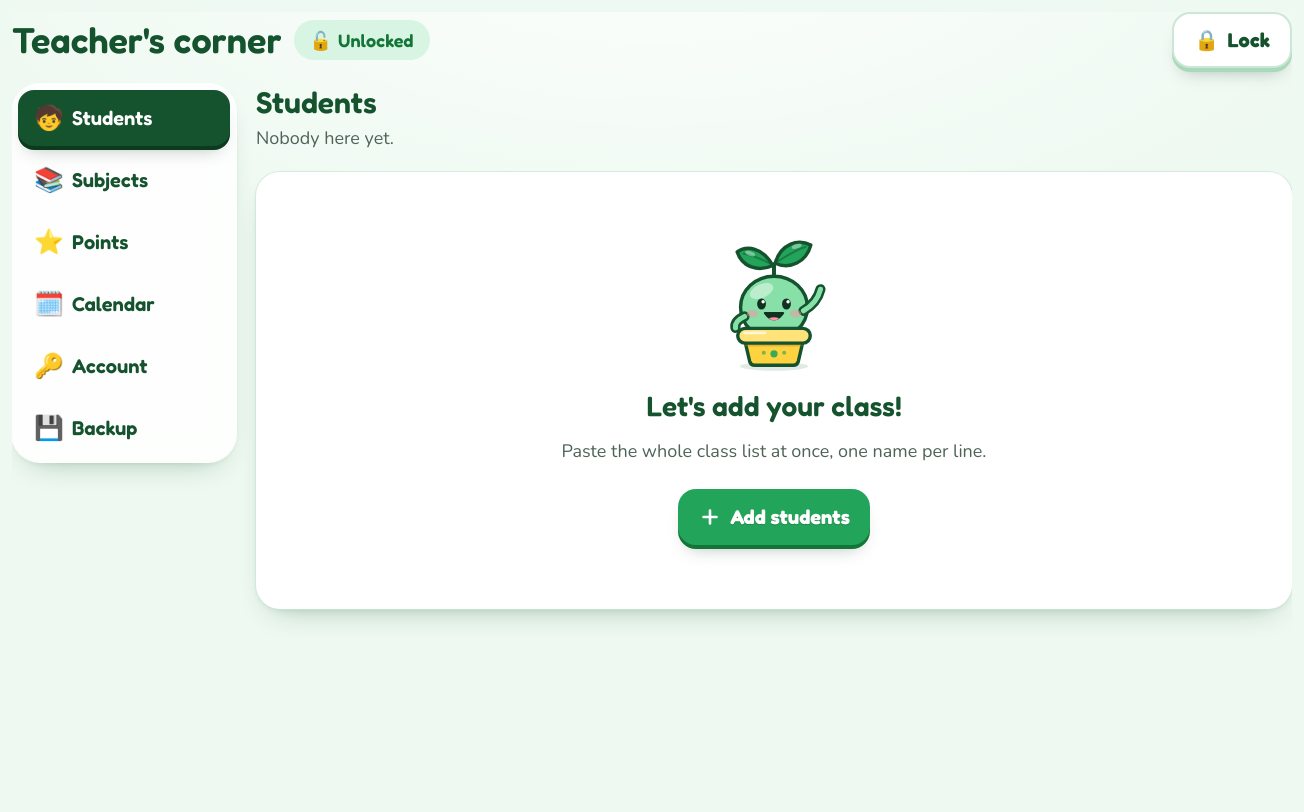
it: AdminPage › shows the tabs with a Lock button when unlocked, and locking brings the gate back
Expected: the text "🔓 Unlocked" is shown, [294, 20, 430, 60]
Expected: the heading "Students" is shown, [256, 84, 394, 120]
What coordinates should you click on to do the following:
click the button "🔒 Lock"
I would click on:
 (1232, 40)
Its box is [1172, 12, 1292, 68].
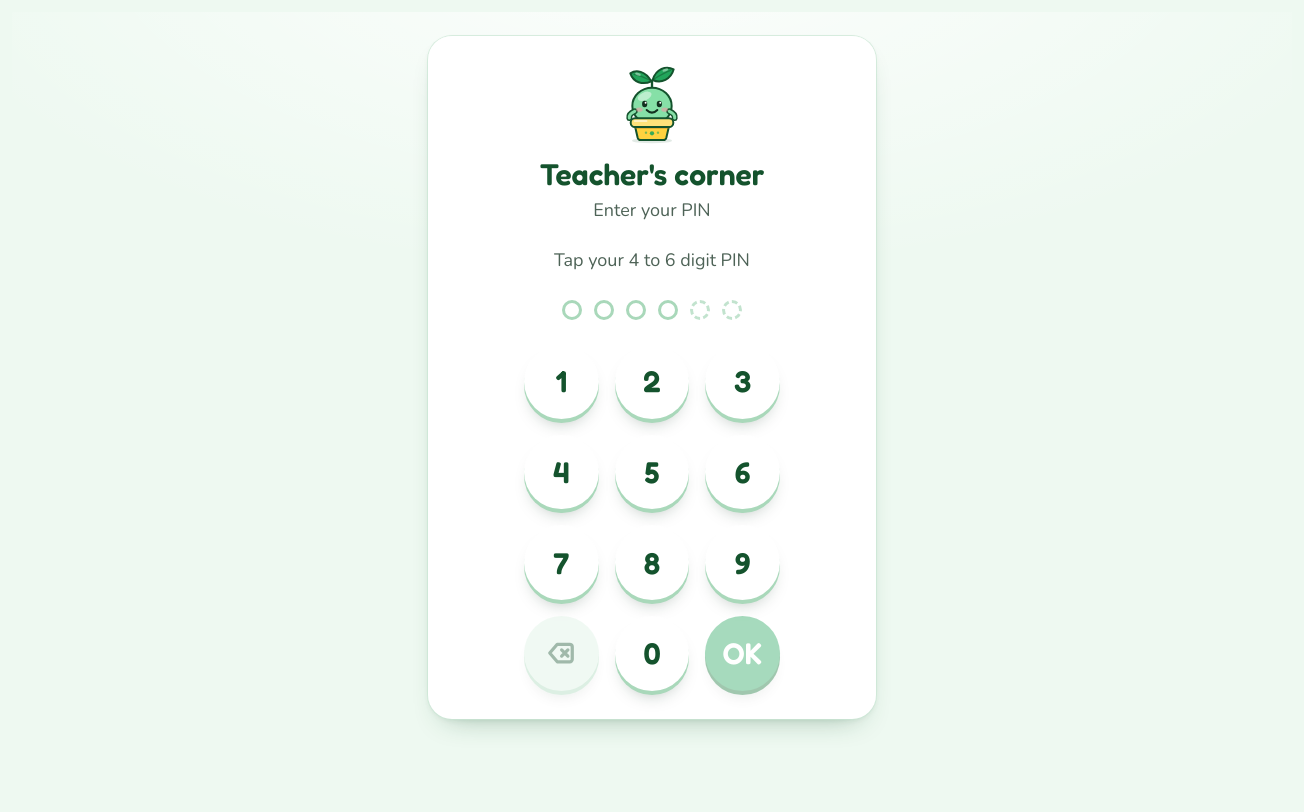
Result: the text "Enter your PIN" is shown at [593, 196, 711, 224]
Result: the text "Unlocked" is gone
